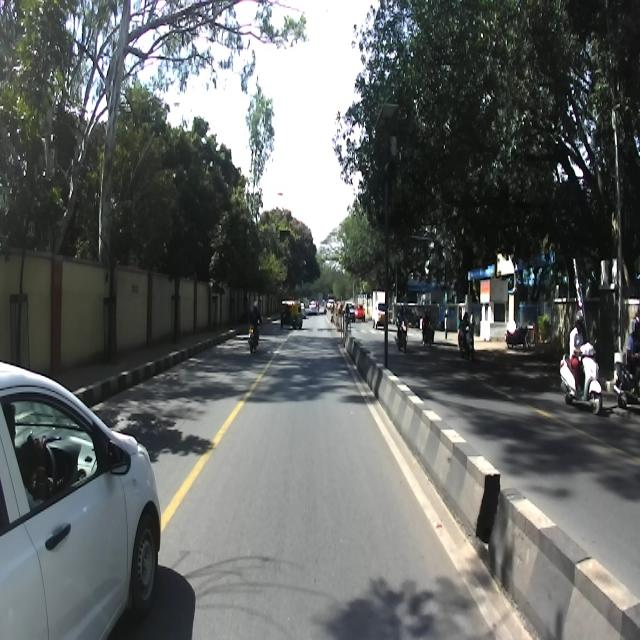autorickshaw: (279, 298, 301, 331)
car: (0, 357, 162, 639)
motorcycle: (246, 316, 259, 352)
scooter: (558, 335, 603, 415), (612, 342, 640, 408)
